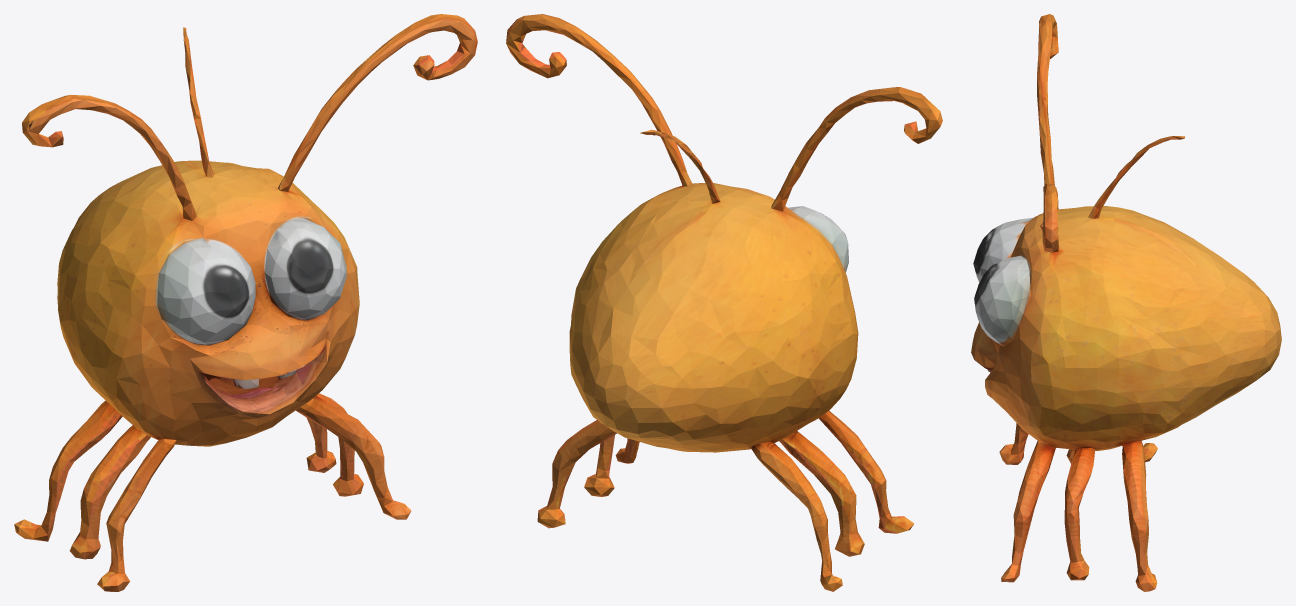
The model's file is dust_mite_cartoony_0707021349_texture.fbx.
3 renders of one model, left to right at view 1: azimuth 30°, elevation 25°; view 2: azimuth 150°, elevation 25°; view 3: azimuth 270°, elevation 25°, orthographic. The views are drawn at different scales.
Visible parts, largest first — view 1: temp; view 2: temp; view 3: temp.
Part boxes in pixels (left/top/right/bottom): temp: left=14, top=14, right=477, bottom=591; temp: left=506, top=14, right=942, bottom=591; temp: left=971, top=14, right=1281, bottom=591.
Bounding box in the file's own units: 156 × 163 × 105.
Materials: 1 (1 with a texture image).
